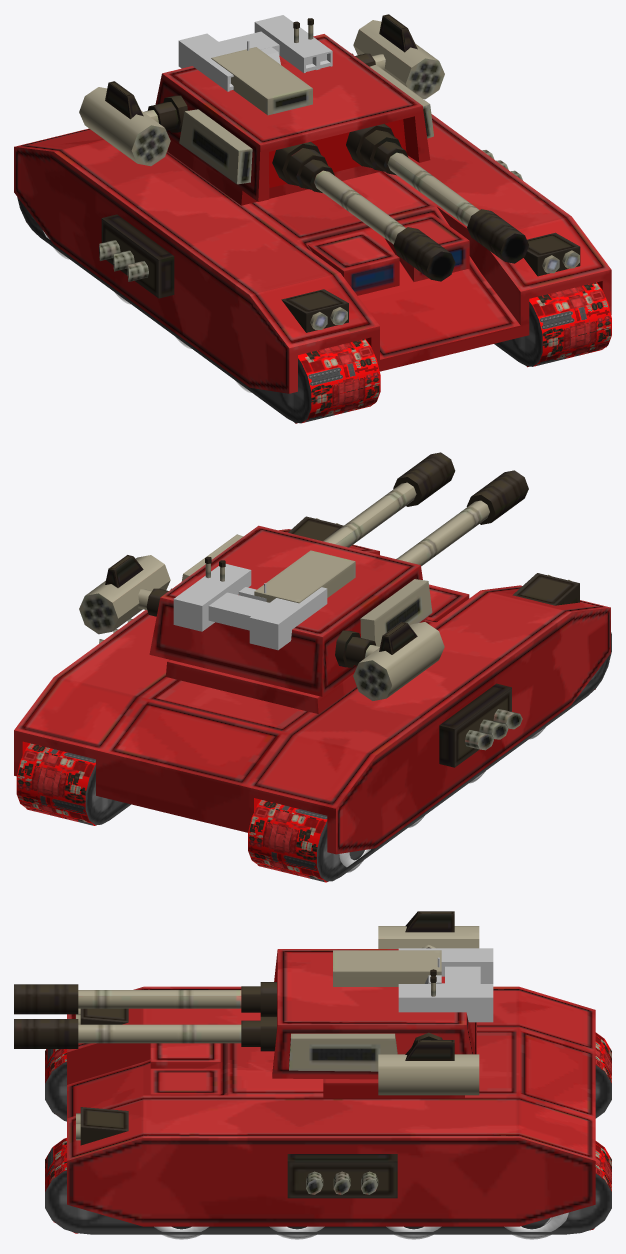
Rendered from 1_MammothTank.fbx.
The picture shows the model from 3 angles, top to bottom: view 1: azimuth 30°, elevation 25°; view 2: azimuth 150°, elevation 25°; view 3: azimuth 270°, elevation 25°; orthographic projection. The views are drawn at different scales.
Visible parts, largest first — view 1: MammothTank, MammothTankTurret, MammothTankBarrels, MammothTankLaunchers, MammothTankTrackRight, MammothTankTrackLeft, MissileTurretPods; view 2: MammothTank, MammothTankTurret, MammothTankLaunchers, MammothTankBarrels, MammothTankTrackRight, MissileTurretPods, MammothTankTrackLeft; view 3: MammothTank, MammothTankTurret, MammothTankBarrels, MammothTankTrackLeft, MammothTankLaunchers, MissileTurretPods, MammothTankTrackRight, tire.
Boxes of the visible parts, box(x1,y1,x2,y2) form: MammothTank: box(14, 114, 611, 393); MammothTankTurret: box(144, 18, 433, 201); MammothTankBarrels: box(272, 123, 528, 281); MammothTankLaunchers: box(79, 14, 444, 166); MammothTankTrackRight: box(17, 197, 380, 423); MammothTankTrackLeft: box(494, 282, 611, 366); MissileTurretPods: box(178, 15, 332, 91); MammothTank: box(14, 516, 610, 854); MammothTankTurret: box(138, 525, 432, 696); MammothTankLaunchers: box(79, 555, 444, 700); MammothTankBarrels: box(322, 452, 528, 566); MammothTankTrackRight: box(248, 632, 611, 881); MissileTurretPods: box(173, 564, 327, 650); MammothTankTrackLeft: box(16, 743, 130, 825); MammothTank: box(67, 986, 595, 1226); MammothTankTurret: box(272, 945, 476, 1079); MammothTankBarrels: box(14, 982, 276, 1051); MammothTankTrackLeft: box(45, 1138, 611, 1234); MammothTankLaunchers: box(378, 911, 479, 1095); MissileTurretPods: box(398, 948, 493, 1022); MammothTankTrackRight: box(45, 1032, 611, 1121); tire: box(504, 1212, 568, 1239).
Size of the model in its own units: 4.82 by 2.65 by 6.59.
